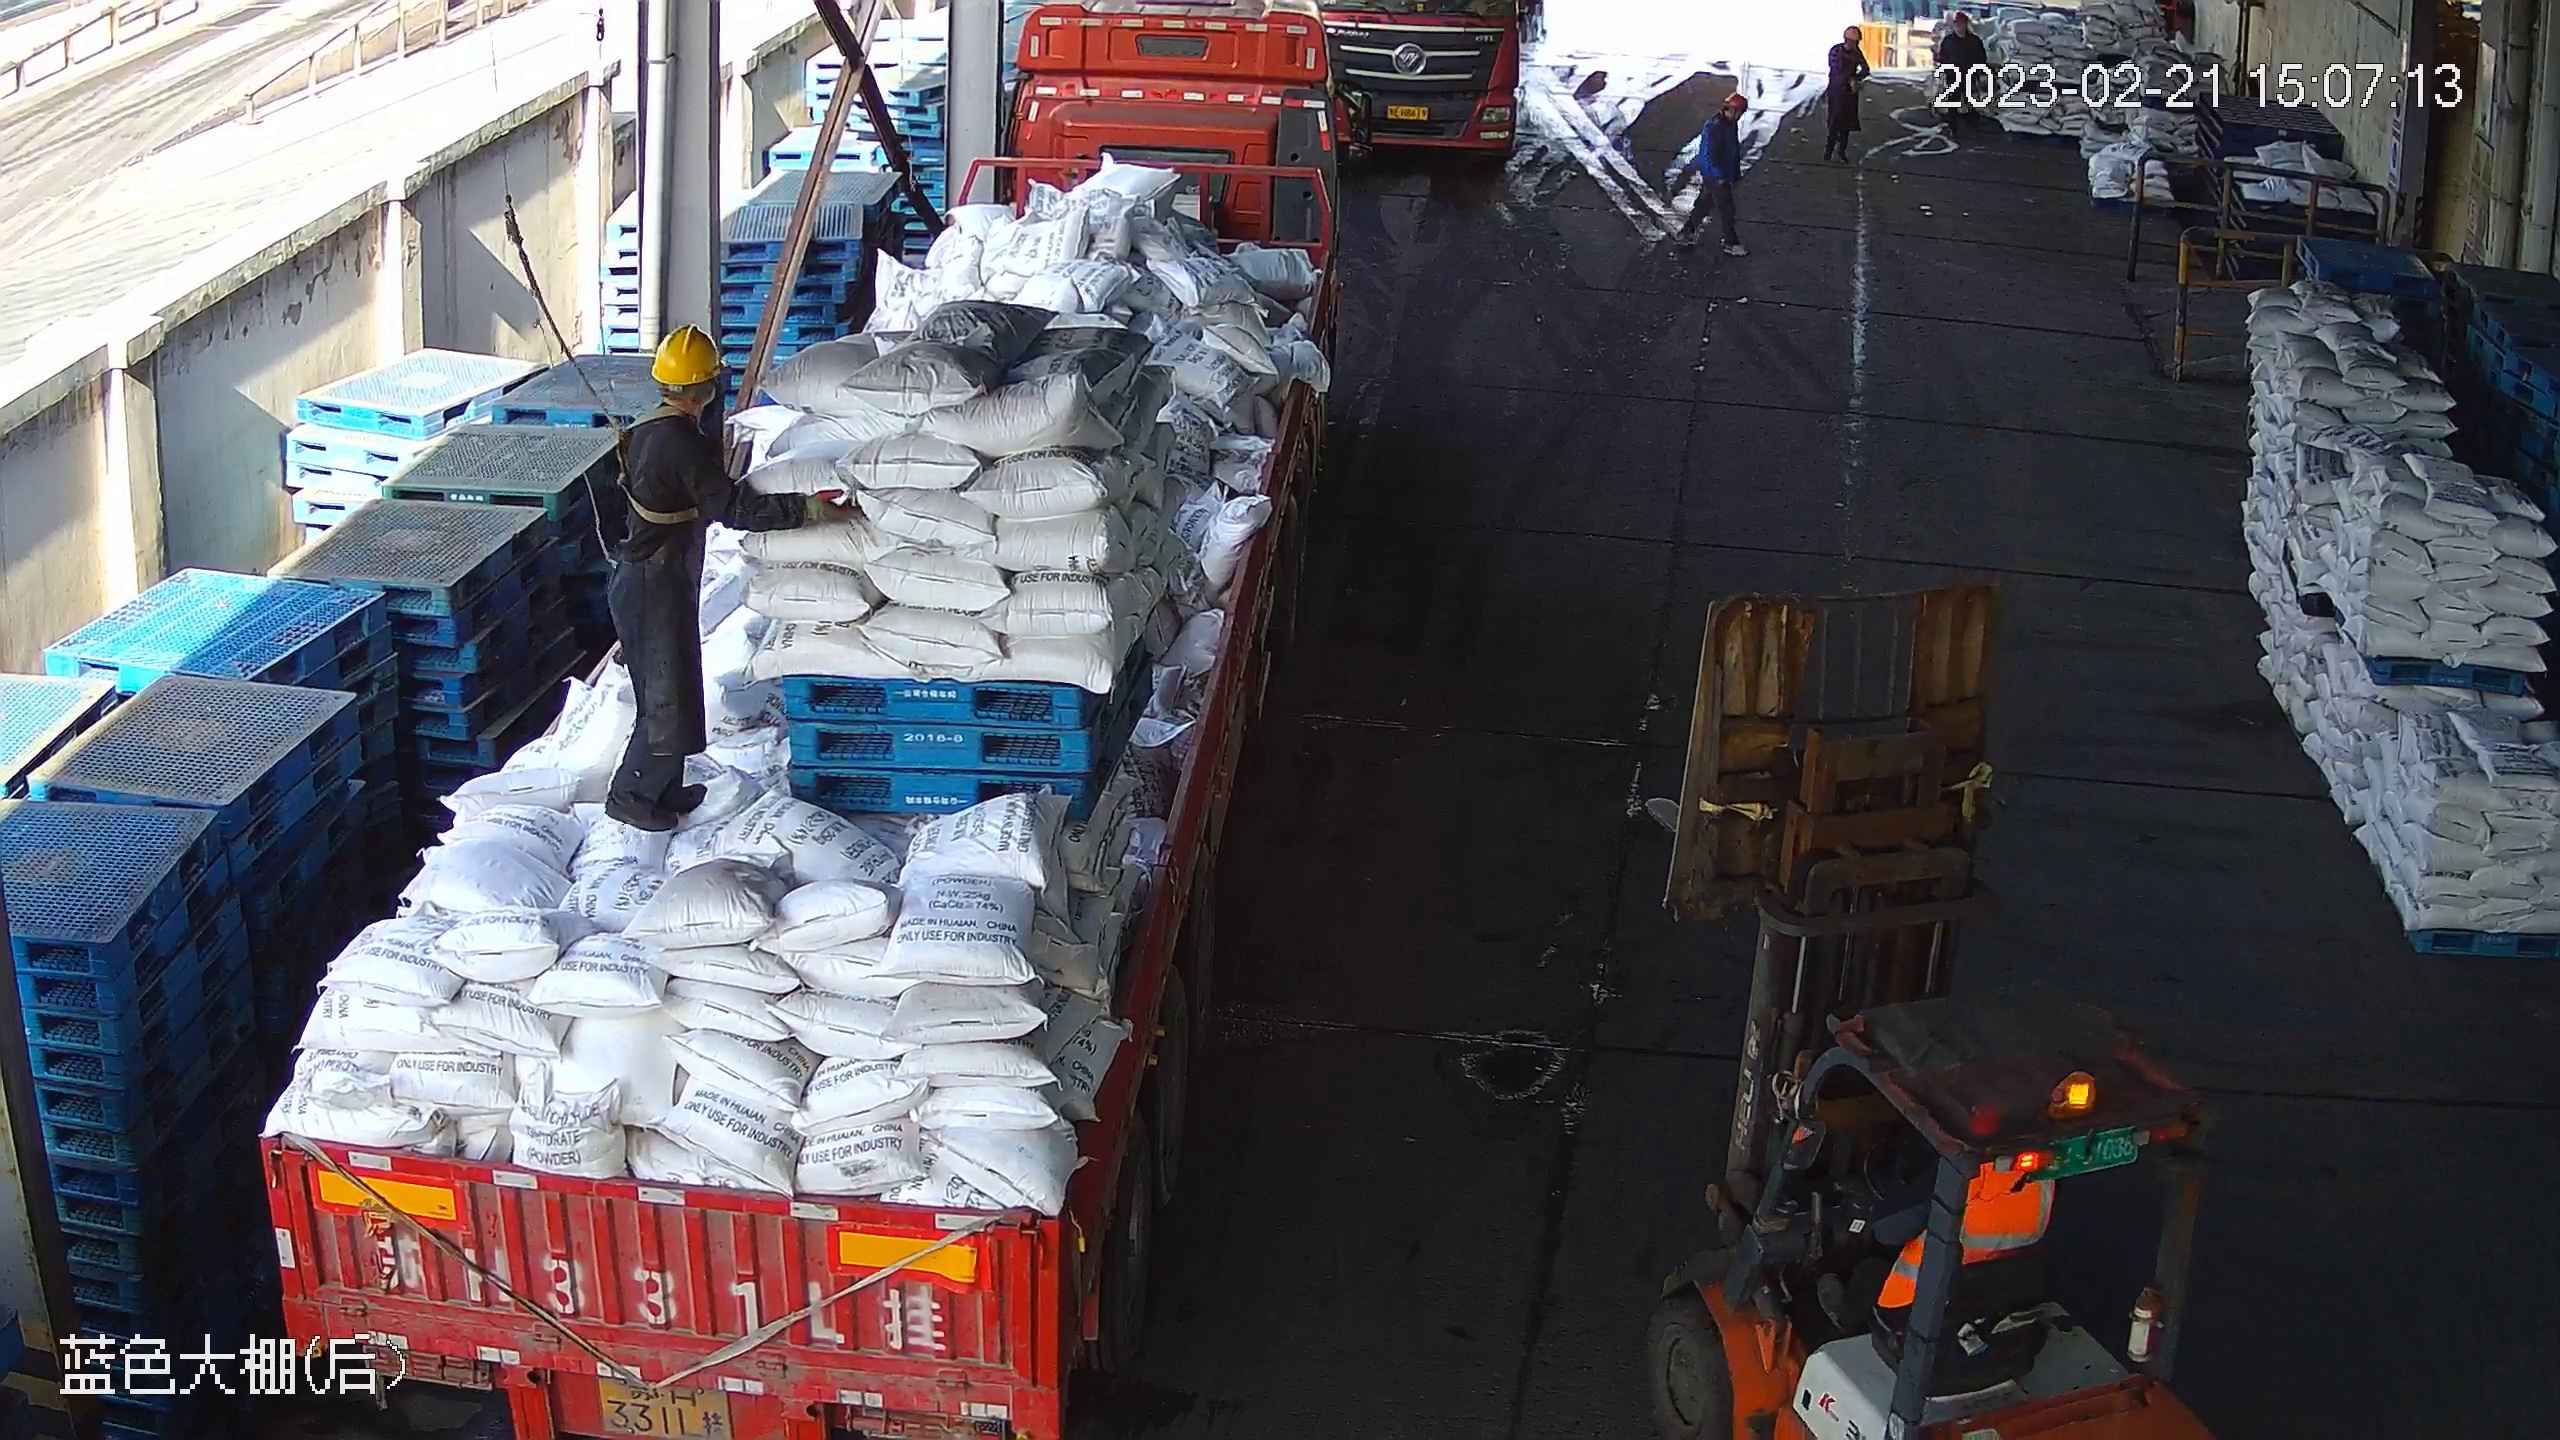belt: (599, 405, 707, 523)
head: (621, 322, 720, 463)
helmet: (650, 323, 721, 383)
people: (605, 322, 867, 836), (1671, 93, 1750, 256), (1820, 23, 1871, 165), (1938, 11, 1989, 137)
truck: (256, 1, 1371, 1440), (1320, 1, 1524, 163)
